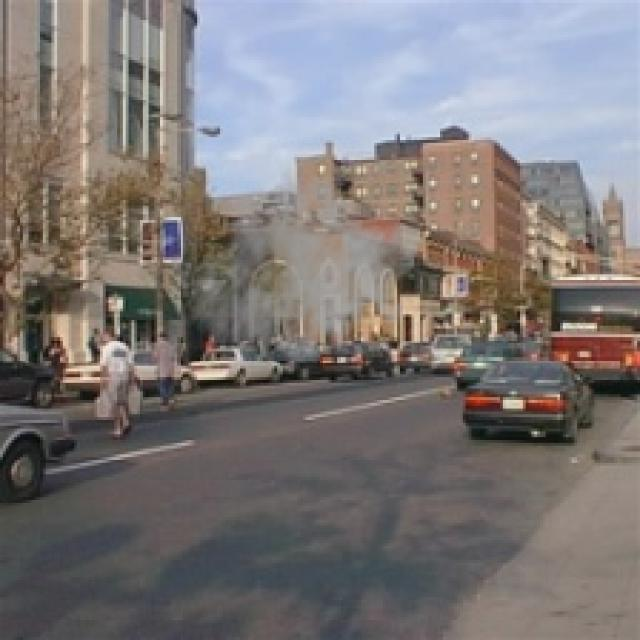Smoke: (186, 166, 423, 383)
